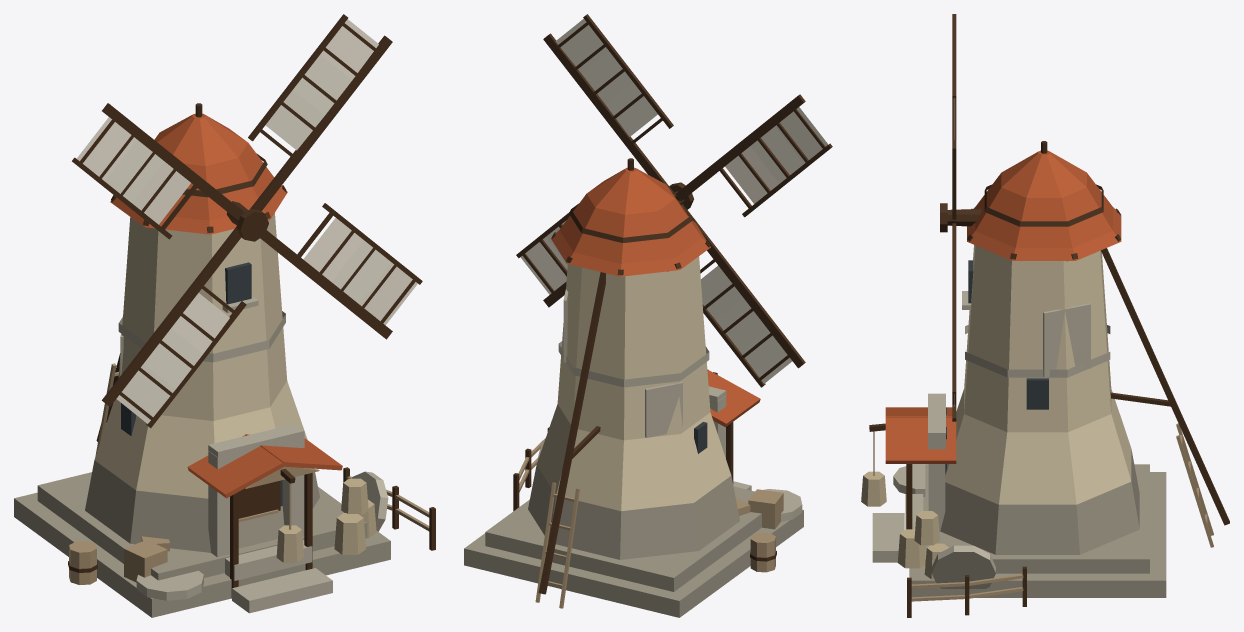
The model's file is era1-windmill-0VC2C6Rg.glb.
3 renders of one model, left to right at view 1: azimuth 30°, elevation 25°; view 2: azimuth 150°, elevation 25°; view 3: azimuth 270°, elevation 25°, orthographic. The views are drawn at different scales.
Visible parts, largest first — view 1: WM_Shaft, WM_ShaftLow, WM_Sail2, WM_Sail0, WM_Sail1, WM_Sail3, WM_Skirt, WM_PlinthLow, WM_PlinthHigh, WM_CapLow, WM_CapTop, WM_StepLow (+20 smaller); view 2: WM_Shaft, WM_ShaftLow, WM_Skirt, WM_PlinthLow, WM_PlinthHigh, WM_Sail0, WM_Sail1, WM_Sail2, WM_CapLow, WM_CapTop, WM_Tailpole, WM_CapEave (+10 smaller); view 3: WM_Shaft, WM_ShaftLow, WM_Skirt, WM_PlinthLow, WM_CapLow, WM_PlinthHigh, WM_CapTop, WM_PorchRoofR, WM_Patch0, WM_CapEave, WM_Tailpole, WM_MillstoneLean (+14 smaller).
Part boxes in pixels (x1,y1,x2,y2): WM_Shaft: (118,213,287,420); WM_ShaftLow: (94,381,307,498); WM_Sail2: (102,226,246,427); WM_Sail0: (248,14,392,210); WM_Sail1: (72,103,244,239); WM_Sail3: (260,203,422,339); WM_Skirt: (85,460,319,552); WM_PlinthLow: (14,492,390,617); WM_PlinthHigh: (37,472,367,580); WM_CapLow: (154,135,273,220); WM_CapTop: (155,113,247,165); WM_StepLow: (232,568,332,613); WM_Shaft: (557,256,710,440); WM_ShaftLow: (536,404,731,511); WM_Skirt: (528,465,739,559); WM_PlinthLow: (464,509,803,617); WM_PlinthHigh: (485,486,761,591); WM_Sail0: (543,14,673,192); WM_Sail1: (675,94,832,217); WM_Sail2: (681,204,805,387); WM_CapLow: (559,187,702,263); WM_CapTop: (586,167,674,214); WM_Tailpole: (538,272,606,594); WM_CapEave: (551,216,710,276); WM_Shaft: (964,245,1111,432); WM_ShaftLow: (945,389,1131,504); WM_Skirt: (940,449,1139,554); WM_PlinthLow: (909,472,1166,597); WM_CapLow: (975,173,1112,247); WM_PlinthHigh: (925,464,1149,573); WM_CapTop: (1001,150,1086,197); WM_PorchRoofR: (885,416,956,463); WM_Patch0: (1043,303,1090,377); WM_CapEave: (967,207,1121,260); WM_Tailpole: (1101,248,1229,525); WM_MillstoneLean: (931,545,995,588).
Bounding box in the file's own units: 5.85 × 8.52 × 5.74.
